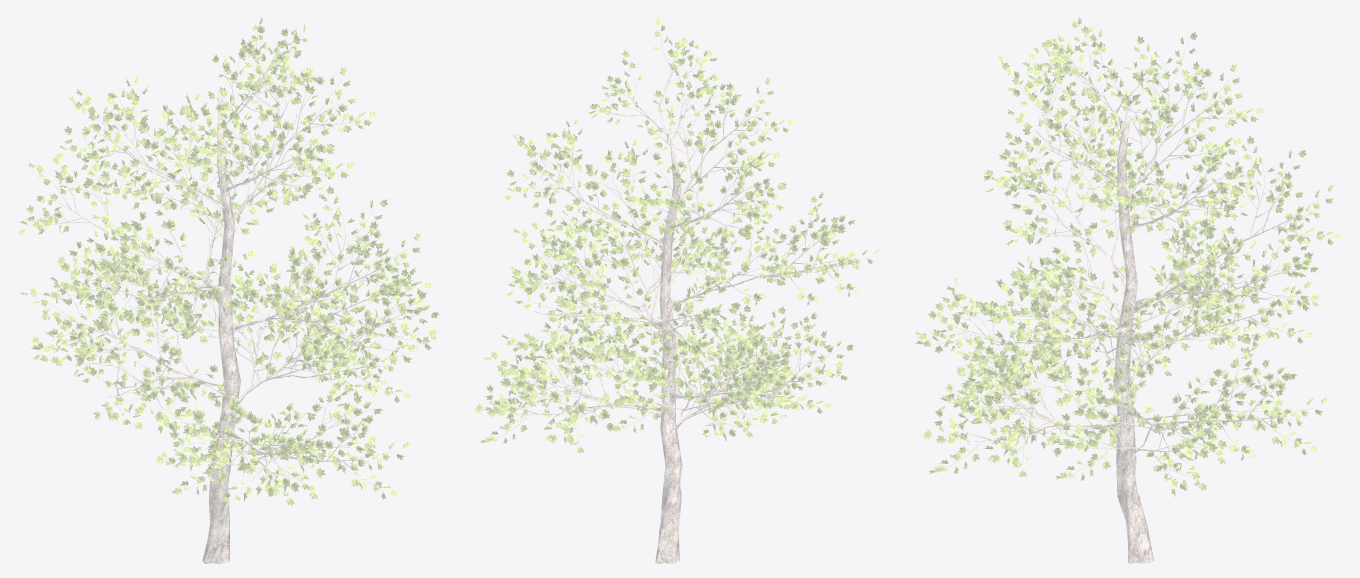
File: SM_Tree1.fbx
3 views of the same model, side by side, from view 1: azimuth 30°, elevation 25°; view 2: azimuth 150°, elevation 25°; view 3: azimuth 270°, elevation 25° (orthographic). The views are drawn at different scales.
Parts seen in each view (by area): view 1: SM_Tree1_LOD0; view 2: SM_Tree1_LOD0; view 3: SM_Tree1_LOD0.
Part boxes in pixels (x1=…): SM_Tree1_LOD0: x1=17, y1=17, x2=439, y2=563; SM_Tree1_LOD0: x1=474, y1=17, x2=880, y2=563; SM_Tree1_LOD0: x1=914, y1=17, x2=1342, y2=563.
Size of the model in its own units: 396 by 387 by 542.
2 materials, 2 textured.
